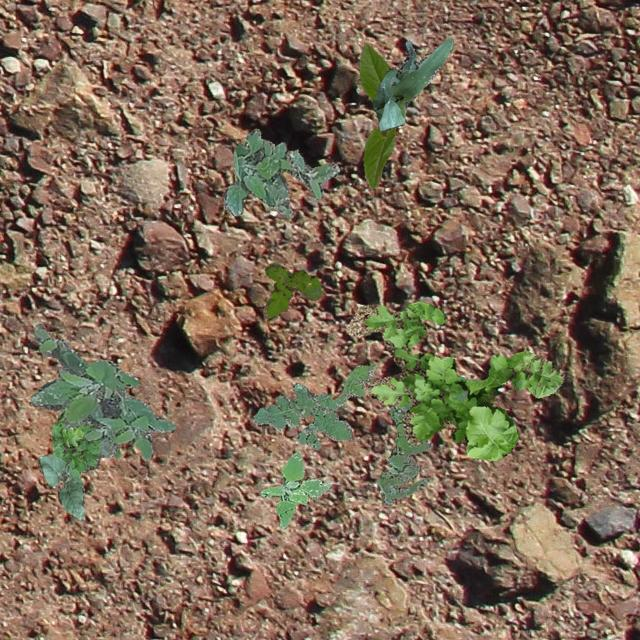crop: (370, 38, 452, 130), (358, 42, 394, 188), (36, 454, 84, 520)
weed: (346, 300, 564, 460), (29, 322, 174, 459), (377, 376, 475, 504), (252, 362, 376, 448), (222, 128, 338, 218), (260, 451, 330, 528), (50, 406, 120, 478), (262, 262, 321, 316)
